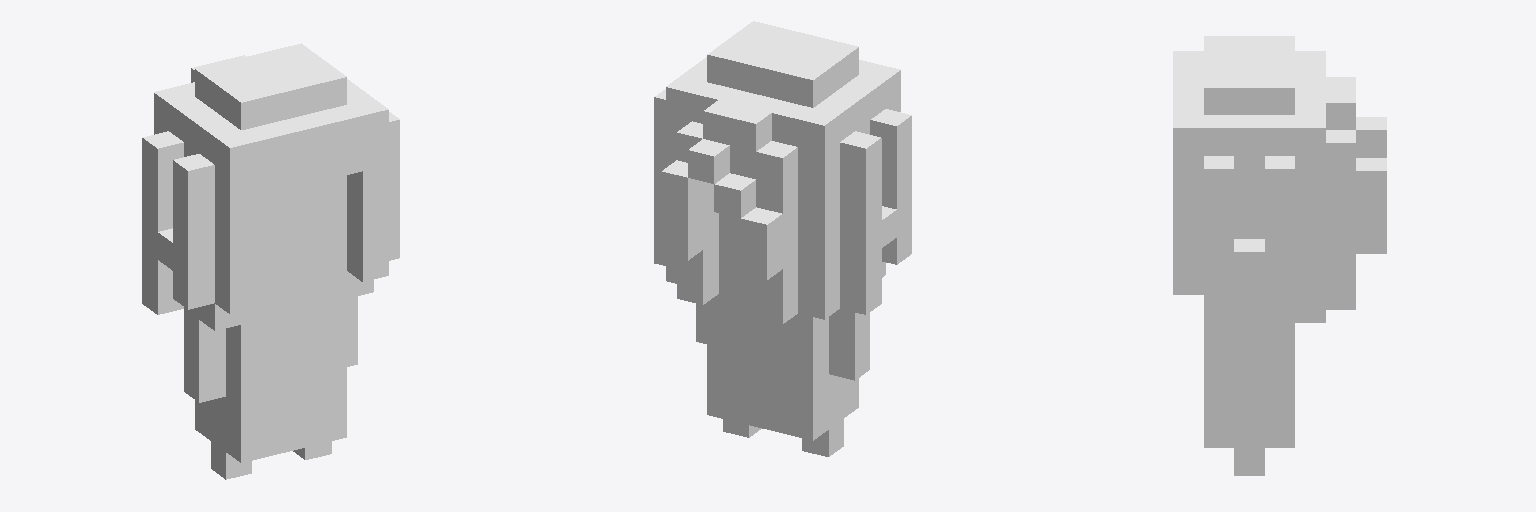
The model's file is people001.obj.
The picture shows the model from 3 angles: view 1: azimuth 30°, elevation 25°; view 2: azimuth 150°, elevation 25°; view 3: azimuth 270°, elevation 25°; orthographic projection.
Visible parts, largest first — view 1: people001; view 2: people001; view 3: people001.
Part boxes in pixels (x1,y1,x2,y2): people001: (142, 43, 399, 479); people001: (654, 21, 911, 456); people001: (1173, 36, 1386, 475).
Size of the model in its own units: 8 by 14 by 7.